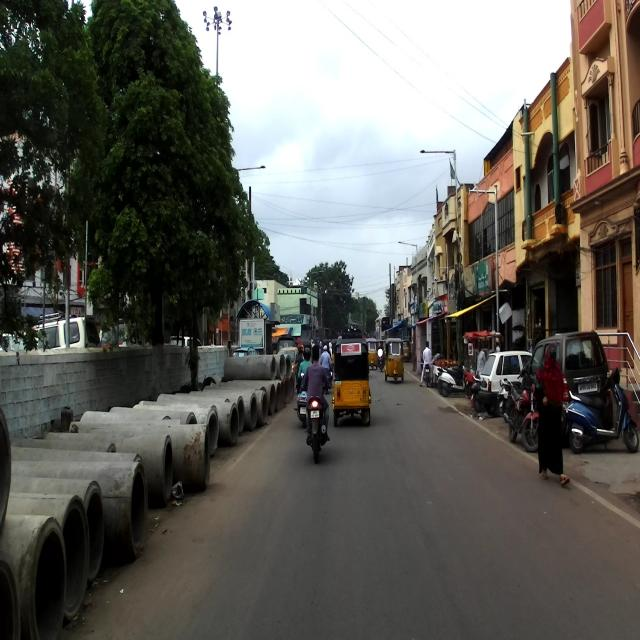car: (529, 330, 610, 428), (477, 348, 535, 418)
motorcycle: (304, 369, 332, 465)
scooter: (566, 366, 639, 452)
